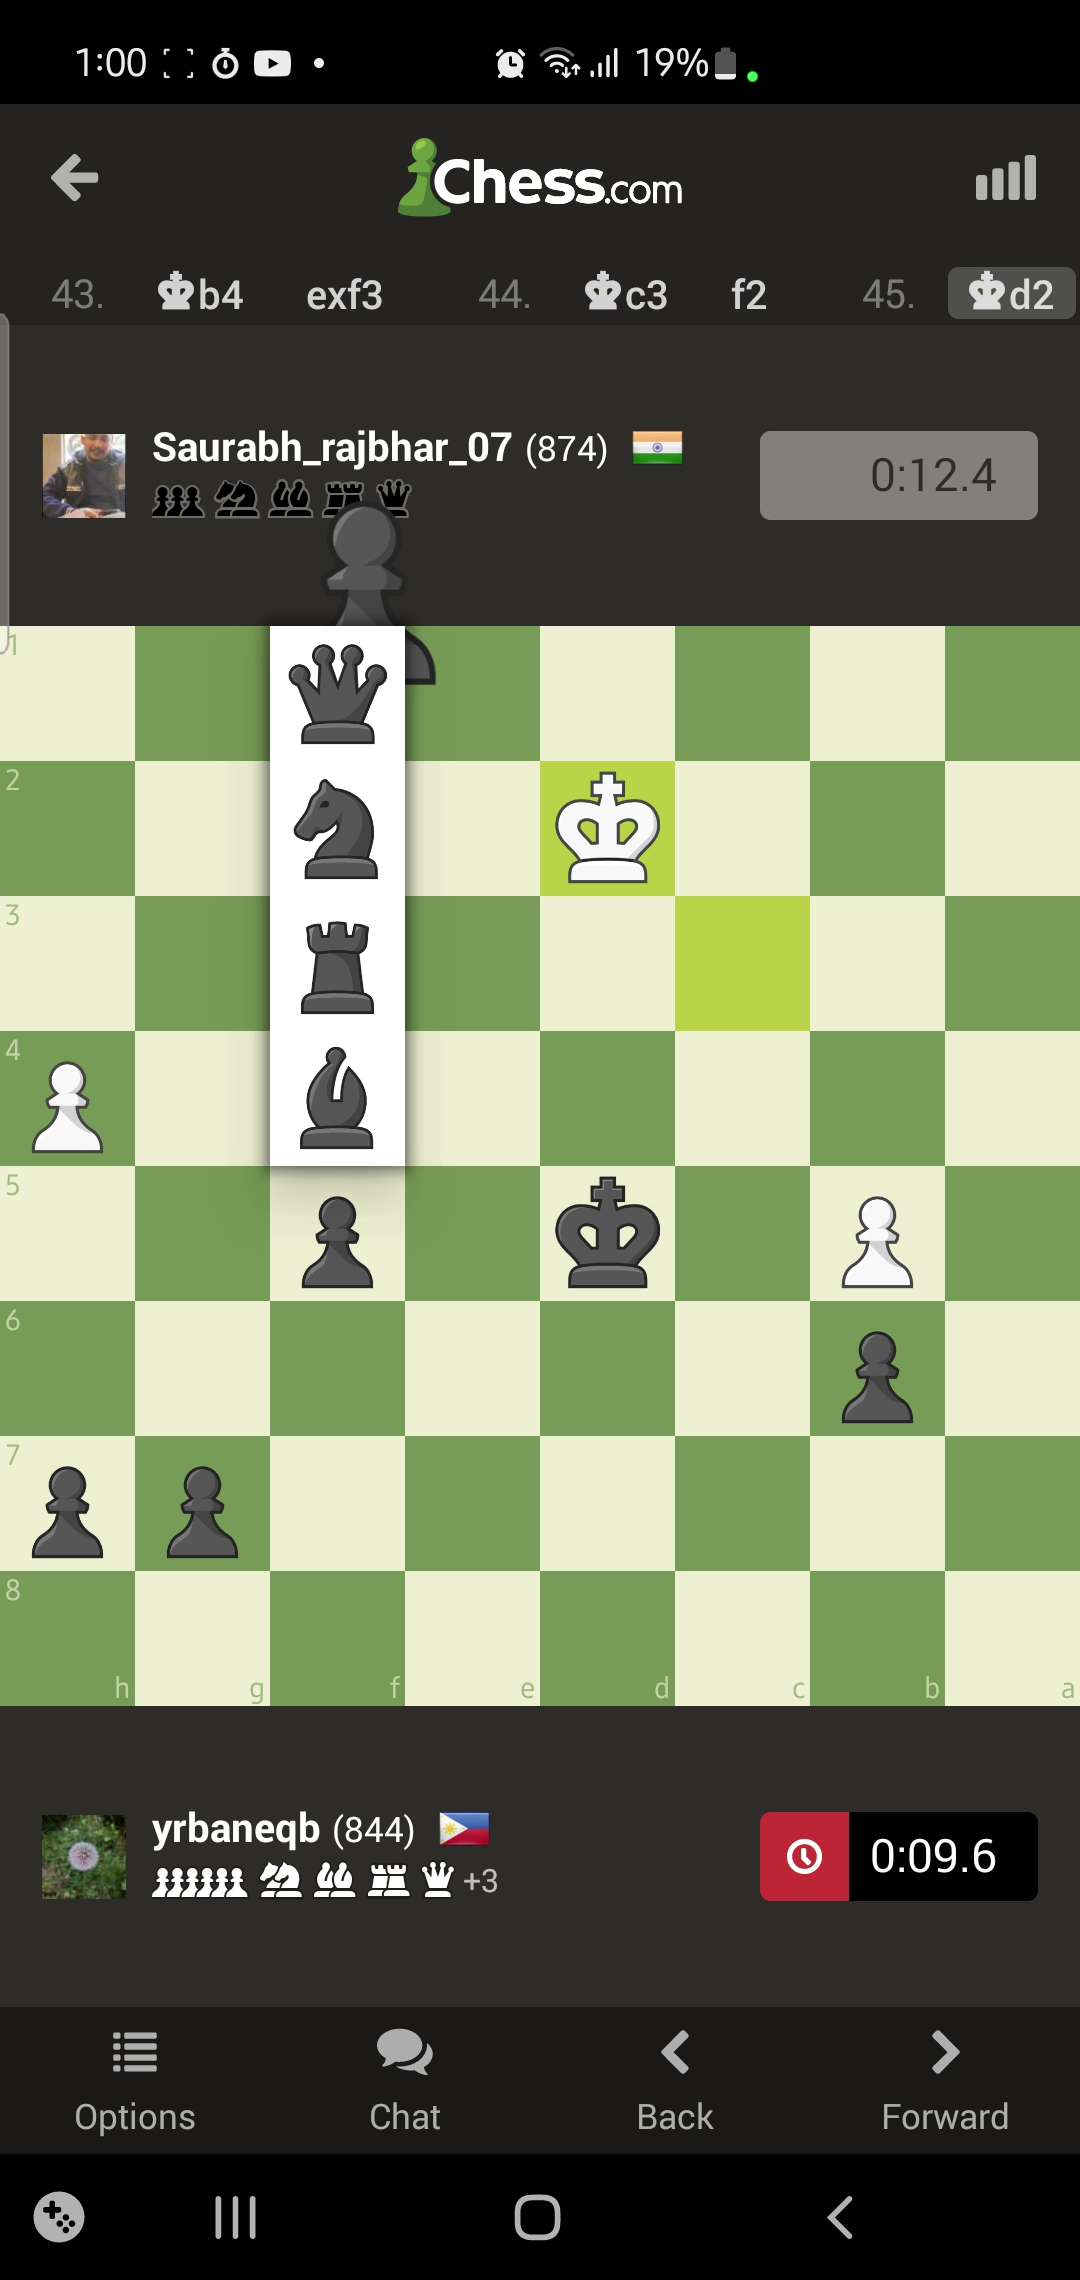king: (552, 1176, 658, 1293), (557, 771, 657, 886)
